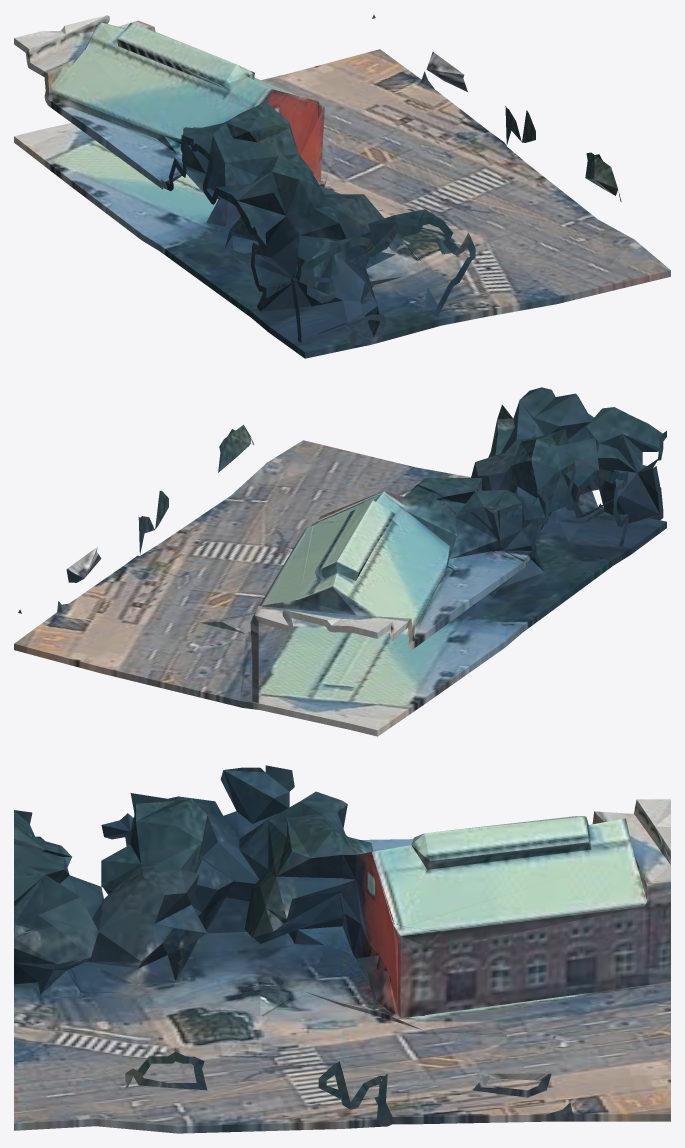
File: chunk_-6_3.glb
3 renders of one model, top to bottom at view 1: azimuth 30°, elevation 25°; view 2: azimuth 150°, elevation 25°; view 3: azimuth 270°, elevation 25°, orthographic. The views are drawn at different scales.
Visible parts, largest first — view 1: hero-chunk; view 2: hero-chunk; view 3: hero-chunk.
Boxes of the visible parts, left/top/right/bottom form: hero-chunk: left=14, top=14, right=670, bottom=358; hero-chunk: left=14, top=387, right=666, bottom=736; hero-chunk: left=14, top=765, right=670, bottom=1133.
Size of the model in its own units: 56.04 by 21.36 by 76.32.
Materials: 1 (1 with a texture image).
